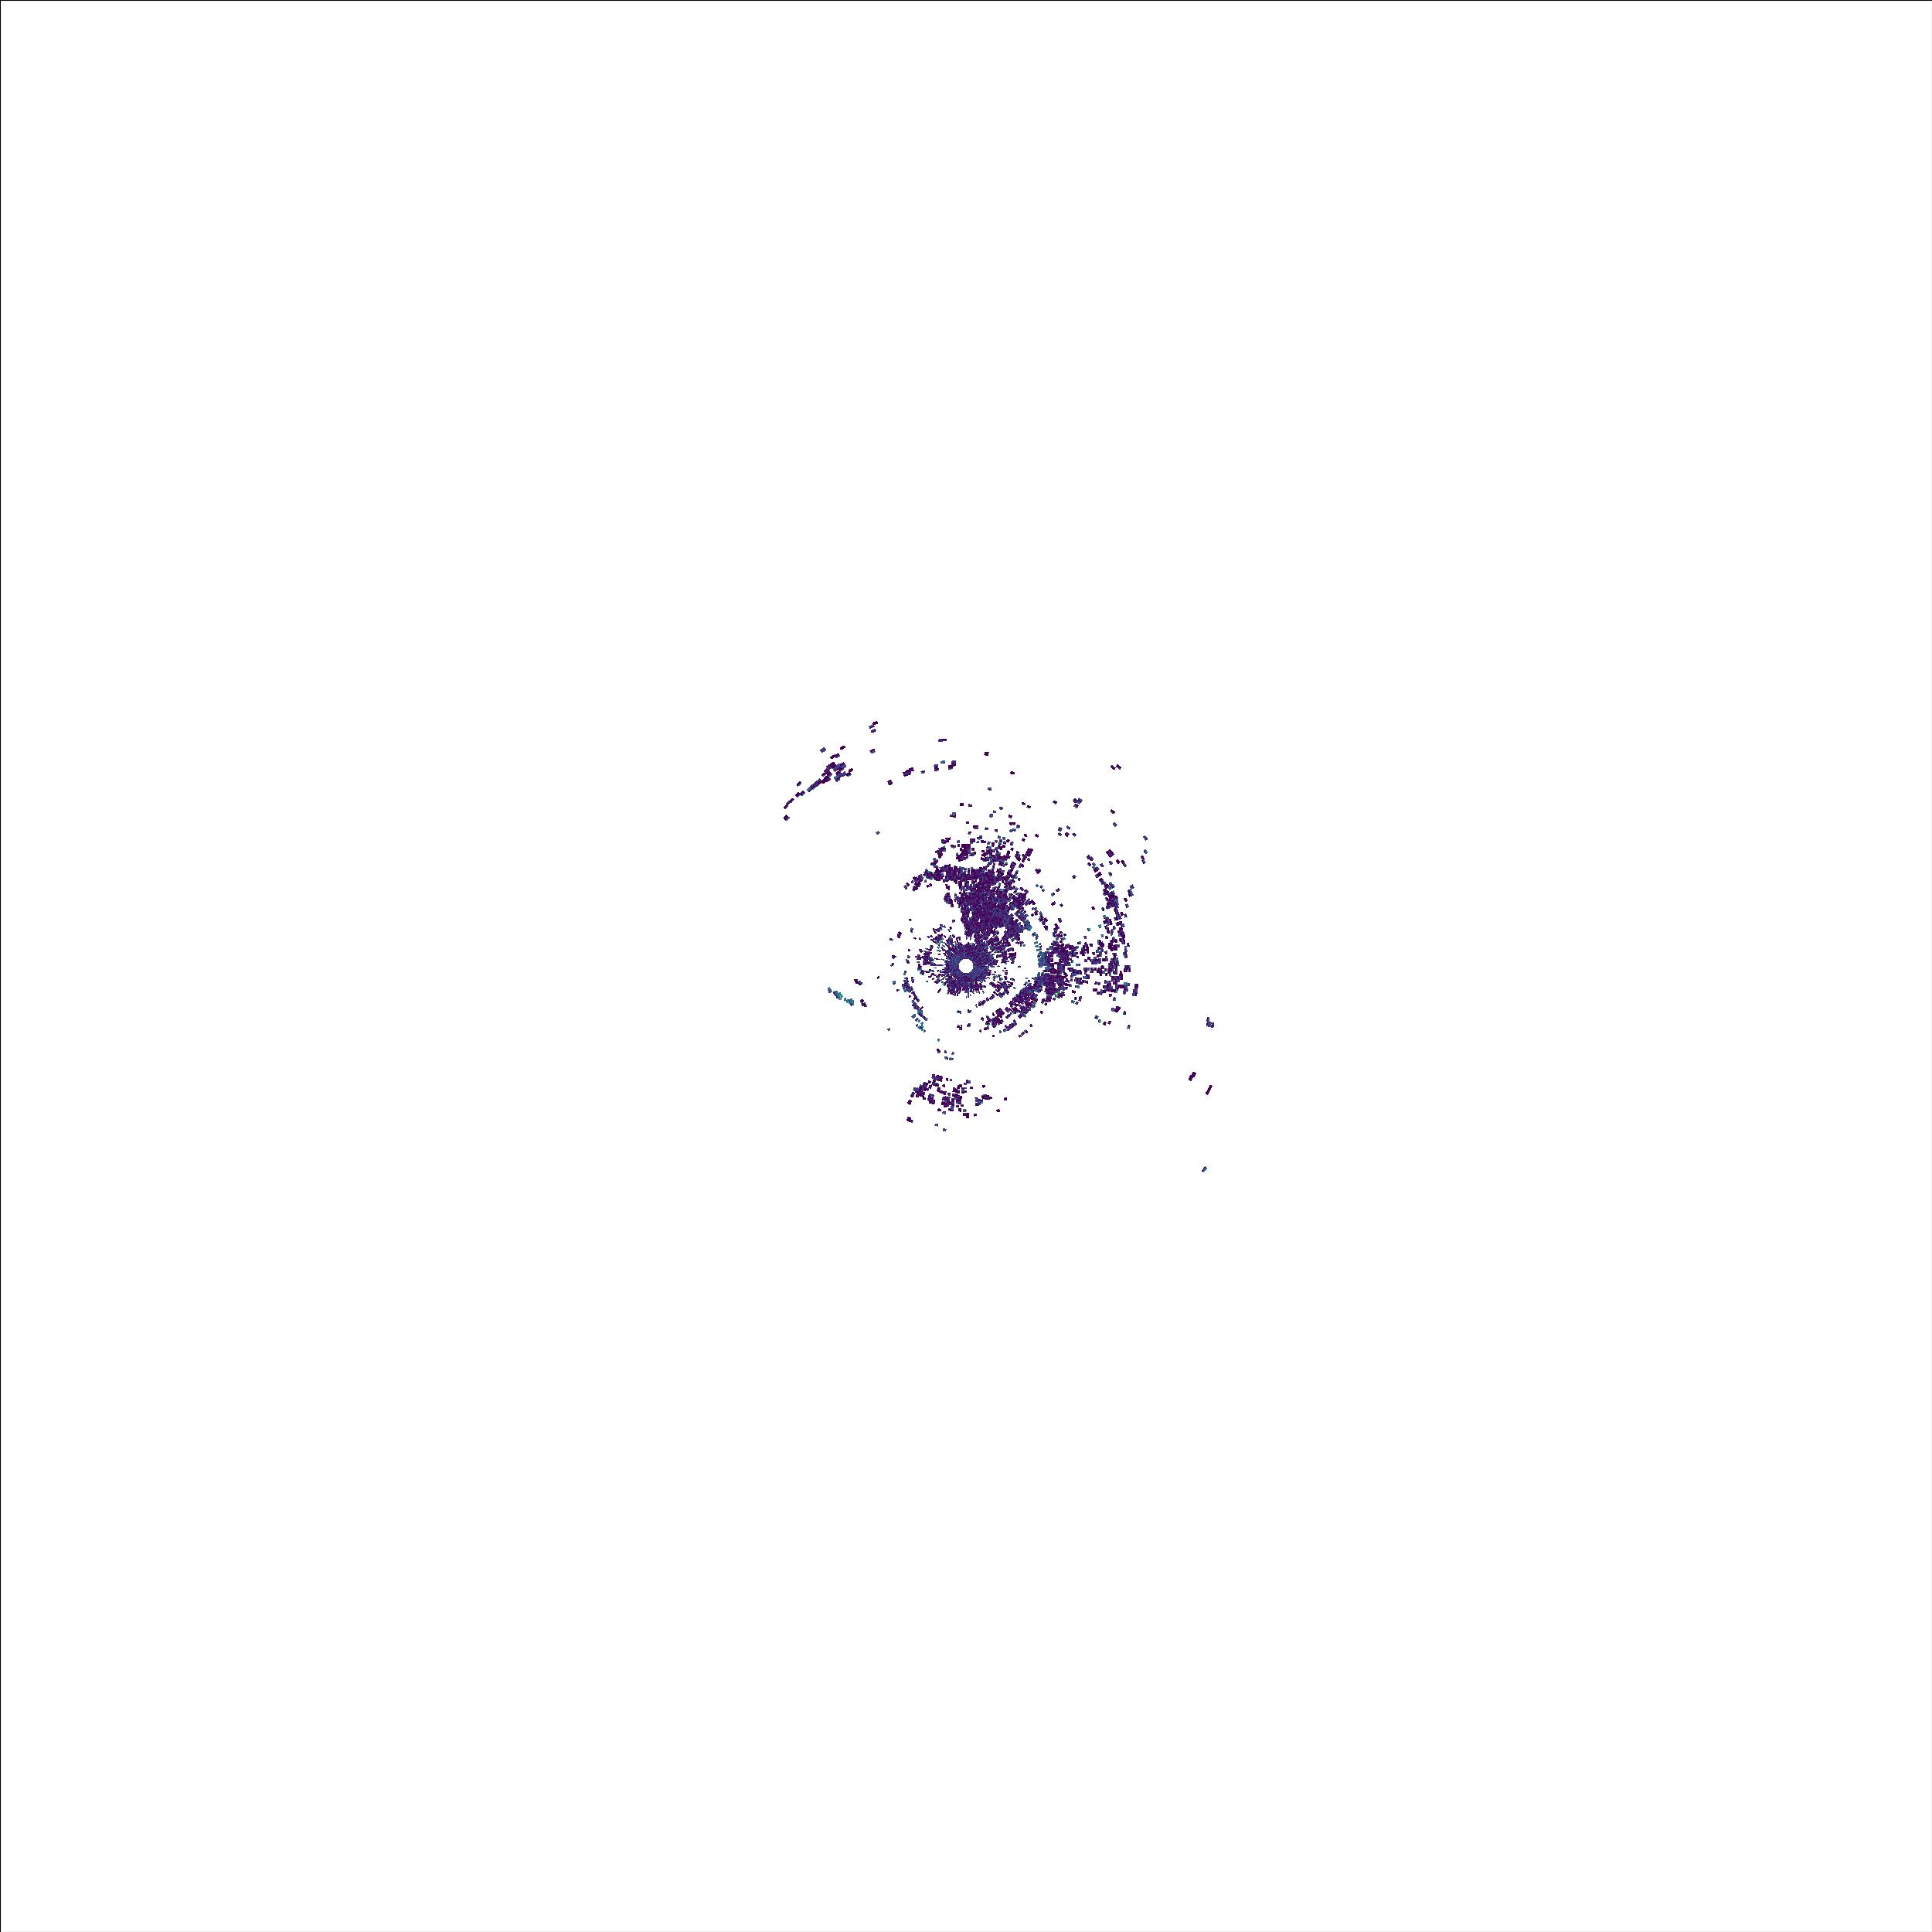fall: (823, 984, 856, 1014)
